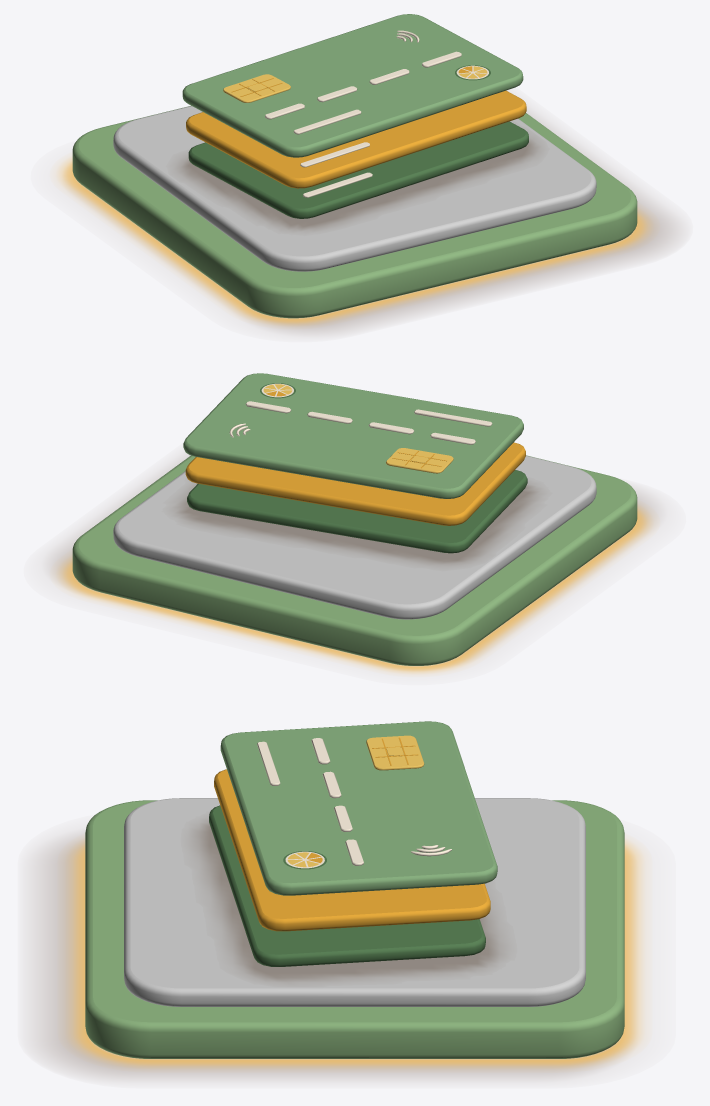
File: payment.glb
3 views of the same model, one above another, from view 1: azimuth 30°, elevation 25°; view 2: azimuth 150°, elevation 25°; view 3: azimuth 270°, elevation 25° (orthographic). The views are drawn at different scales.
Visible parts, largest first — view 1: Plinth_Outer, Plinth_Inner, Card_Top, Card_Middle, Card_Bottom, Fx_ContactShadow, Fx_FloorGlow, Fx_AmbientOcclusion; view 2: Plinth_Inner, Plinth_Outer, Card_Top, Card_Bottom, Card_Middle, Fx_FloorGlow, Fx_AmbientOcclusion, Fx_ContactShadow; view 3: Plinth_Inner, Plinth_Outer, Card_Top, Fx_ContactShadow, Fx_FloorGlow, Card_Middle, Card_Bottom, Fx_AmbientOcclusion.
Part boxes in pixels (x1,y1,x2,y2): Plinth_Outer: [72, 105, 637, 318]; Plinth_Inner: [113, 106, 596, 271]; Card_Top: [182, 14, 523, 157]; Card_Middle: [186, 90, 526, 188]; Card_Bottom: [188, 121, 528, 218]; Fx_ContactShadow: [84, 110, 679, 334]; Fx_FloorGlow: [58, 157, 651, 325]; Fx_AmbientOcclusion: [177, 138, 539, 230]; Plinth_Inner: [113, 455, 596, 619]; Plinth_Outer: [72, 455, 637, 665]; Card_Top: [183, 373, 523, 498]; Card_Bottom: [187, 470, 527, 553]; Card_Middle: [185, 442, 525, 525]; Fx_FloorGlow: [58, 505, 651, 673]; Fx_AmbientOcclusion: [175, 483, 538, 565]; Fx_ContactShadow: [47, 454, 660, 660]; Plinth_Inner: [124, 798, 585, 1006]; Plinth_Outer: [85, 800, 624, 1058]; Card_Top: [220, 721, 497, 895]; Fx_ContactShadow: [34, 832, 620, 1079]; Fx_FloorGlow: [67, 840, 642, 1068]; Card_Middle: [214, 769, 490, 931]; Card_Bottom: [209, 805, 485, 966]; Fx_AmbientOcclusion: [193, 820, 502, 982].
Bounding box in the file's own units: 5.82 × 1.4 × 5.82.
